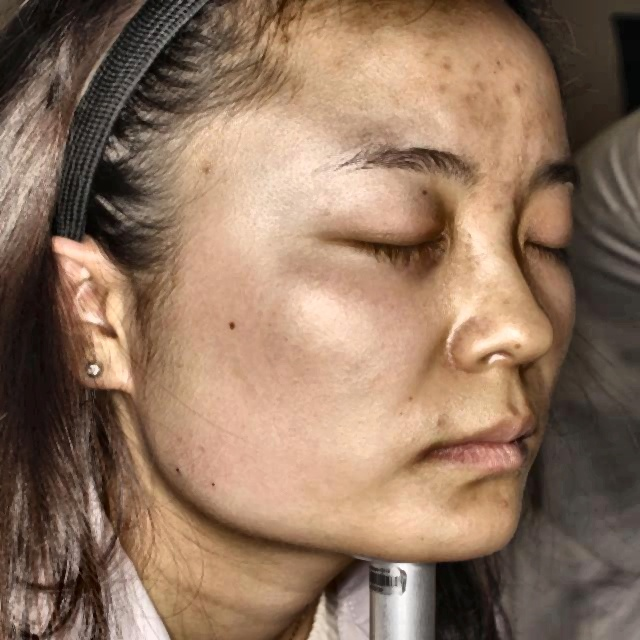comedone: (470, 72, 500, 96), (506, 77, 526, 101)
